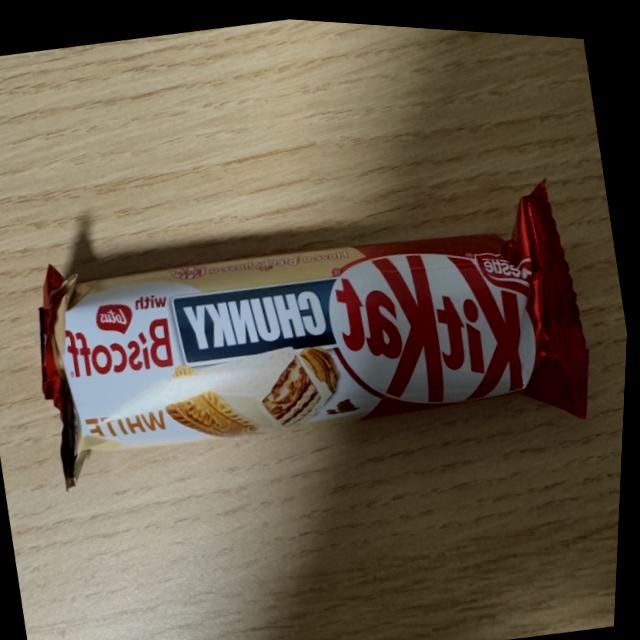chocolate: (7, 122, 628, 529)
